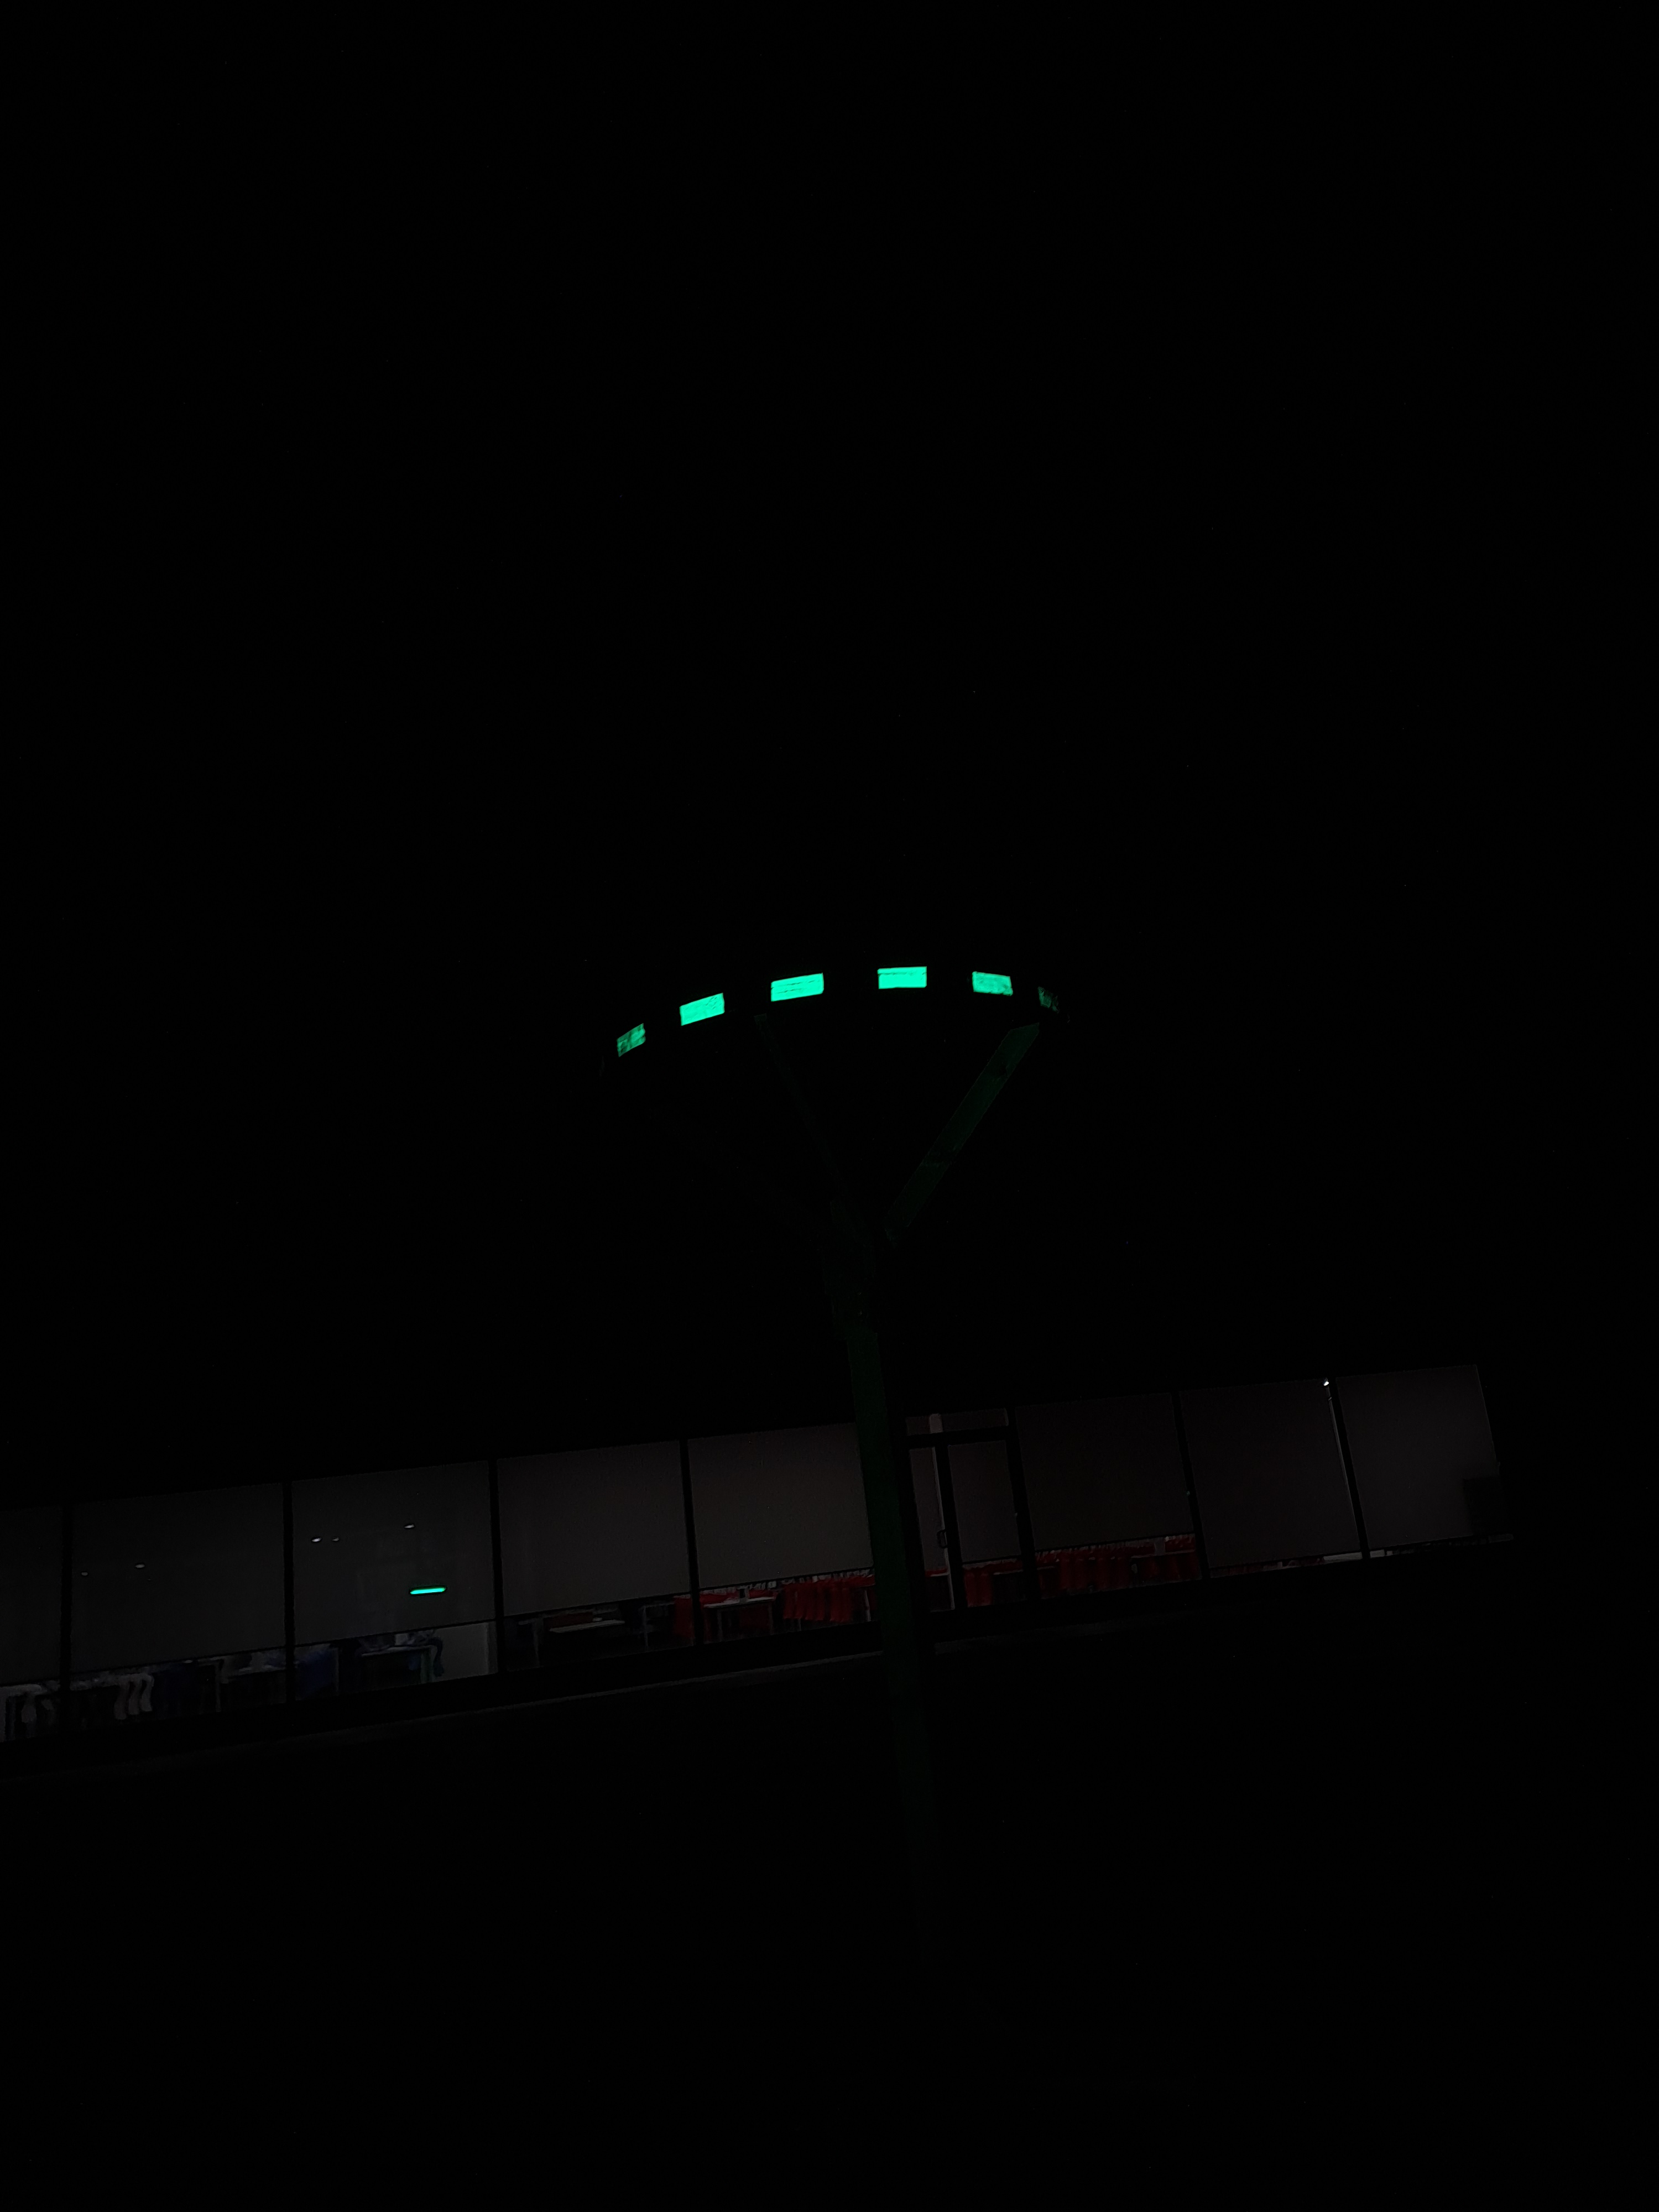hoop: (612, 956, 1061, 1078)
